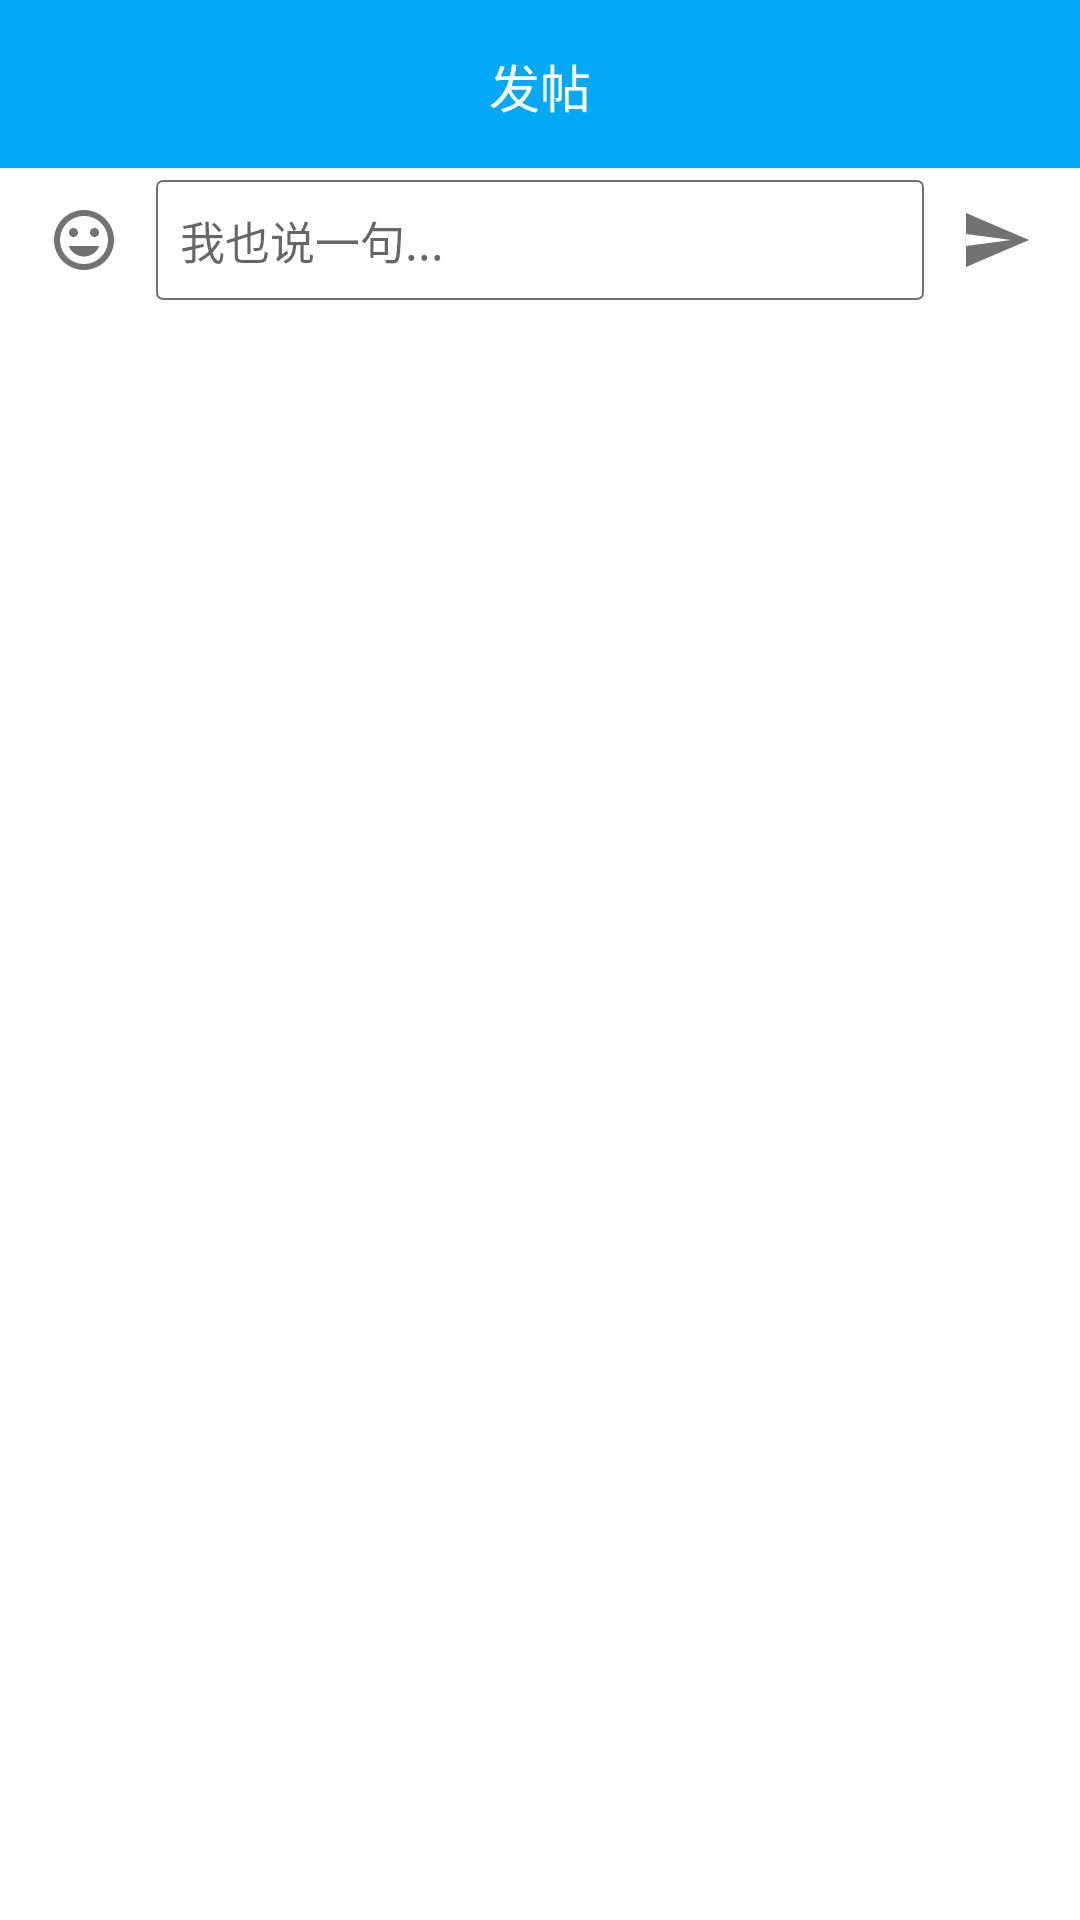

Icons on this 1080*1920 Android screen, each with its box as [x1,y1,x2,y2]:
send: [966,213,1029,267]
tag faces indigo: [54,210,114,270]
